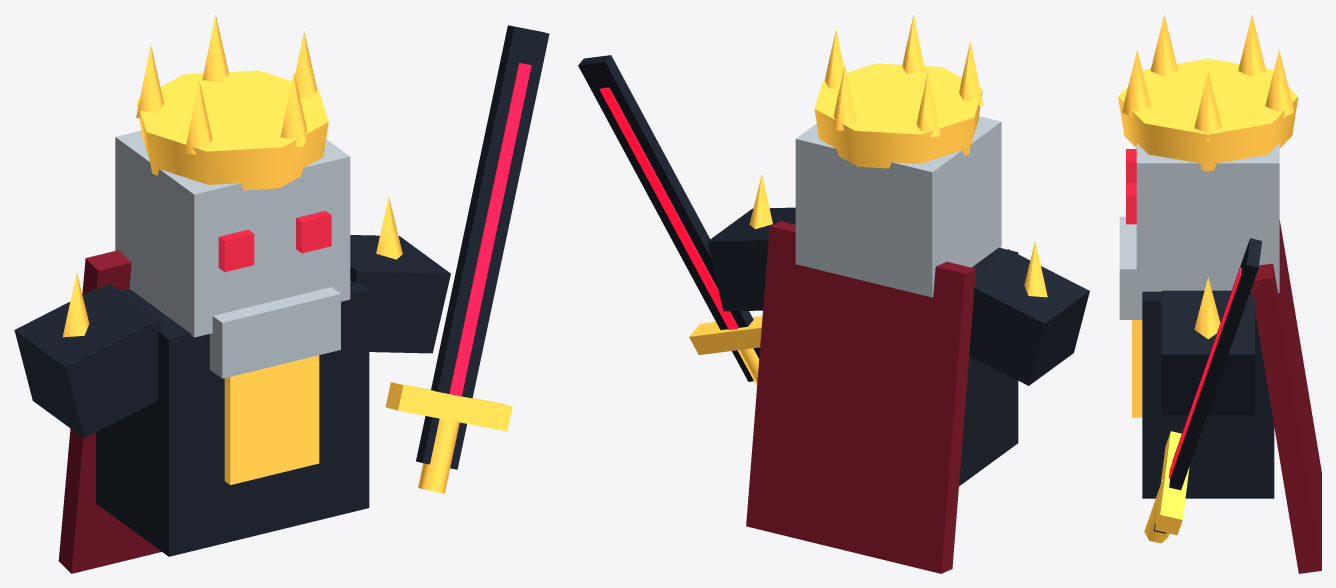
Rendered from skeleton-king.glb.
3 views of the same model, side by side, from view 1: azimuth 30°, elevation 25°; view 2: azimuth 150°, elevation 25°; view 3: azimuth 270°, elevation 25° (orthographic). The views are drawn at different scales.
Visible parts, largest first — view 1: boss_skeleton_king; view 2: boss_skeleton_king; view 3: boss_skeleton_king.
Part boxes in pixels (box(x1,y1,x2,y2)): boss_skeleton_king: box(14, 14, 549, 573); boss_skeleton_king: box(578, 15, 1089, 573); boss_skeleton_king: box(1118, 14, 1321, 573).
Bounding box in the file's own units: 3.57 × 3.44 × 1.31.
